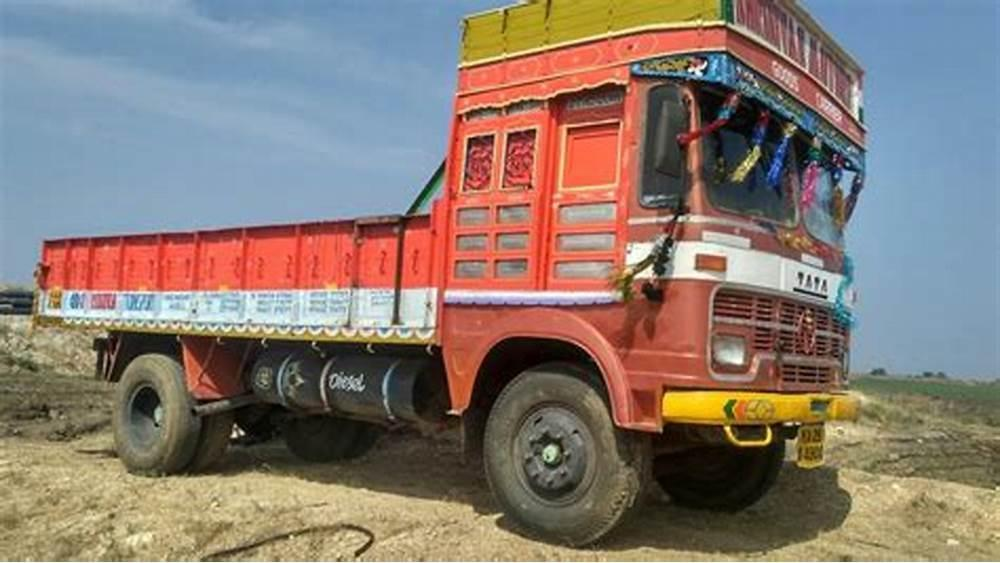truck: (45, 2, 883, 509)
